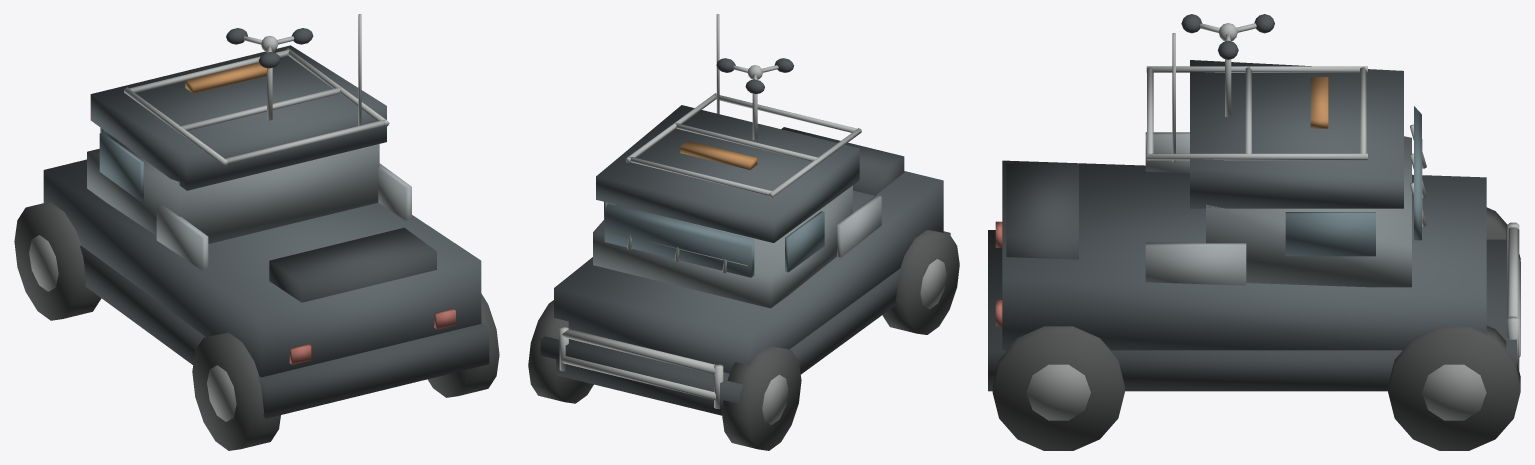
The model's file is storm-chaser-vehicle.glb.
The picture shows the model from 3 angles, left to right: view 1: azimuth 30°, elevation 25°; view 2: azimuth 150°, elevation 25°; view 3: azimuth 270°, elevation 25°; orthographic projection. The views are drawn at different scales.
Visible parts, largest first — view 1: storm-chaser-vehicle; view 2: storm-chaser-vehicle; view 3: storm-chaser-vehicle.
Boxes of the visible parts, x1,y1,x2,y2 form: storm-chaser-vehicle: (14, 14, 499, 450); storm-chaser-vehicle: (528, 14, 959, 450); storm-chaser-vehicle: (988, 14, 1520, 450).
Size of the model in its own units: 3.96 by 5.27 by 6.6.
